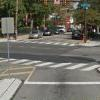Crosswalk: (13, 33, 100, 79)
